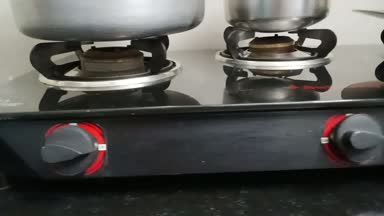flame_gas_off: (221, 22, 384, 173), (21, 30, 182, 181)
